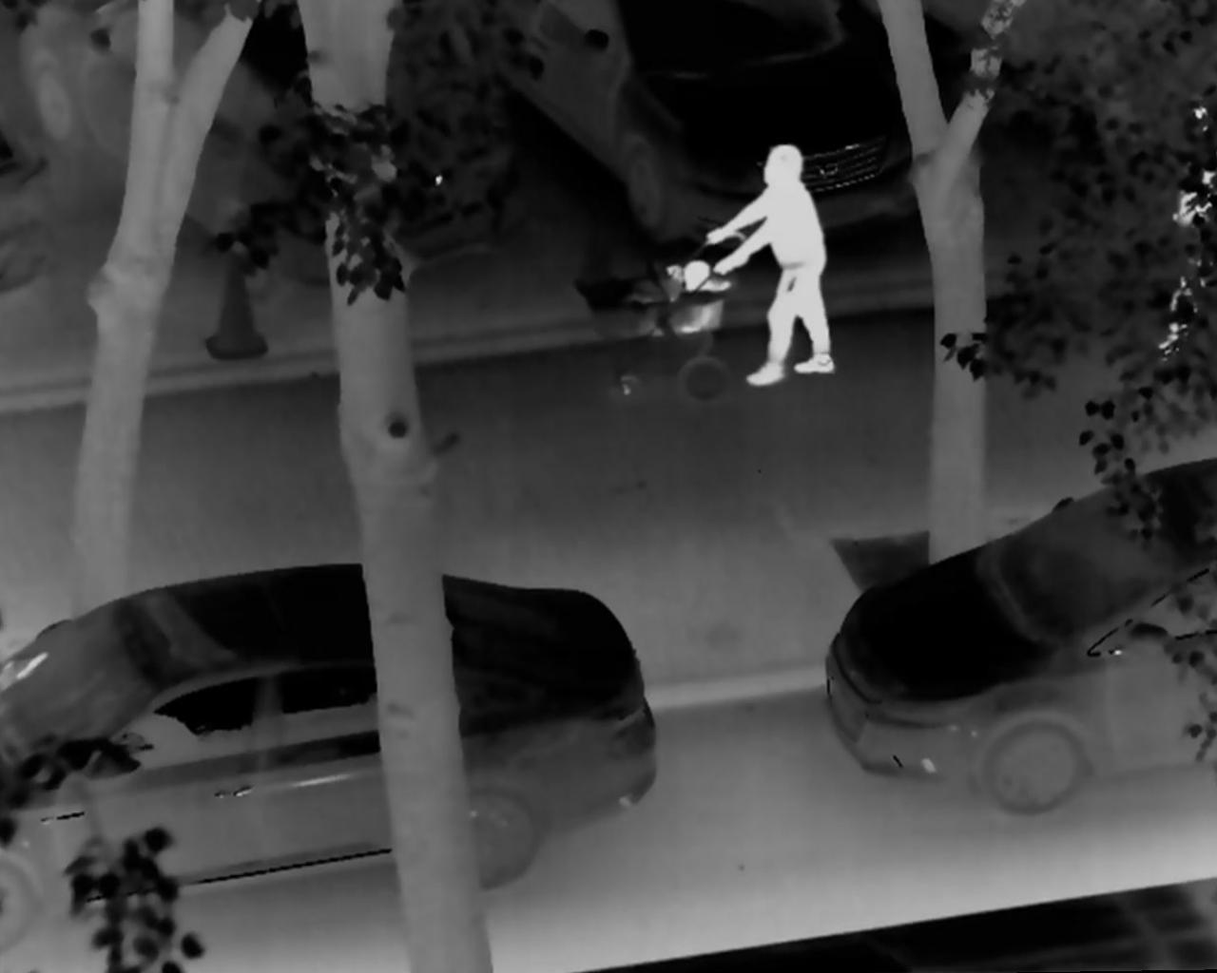person: (710, 143, 847, 393), (1153, 101, 1217, 360)
